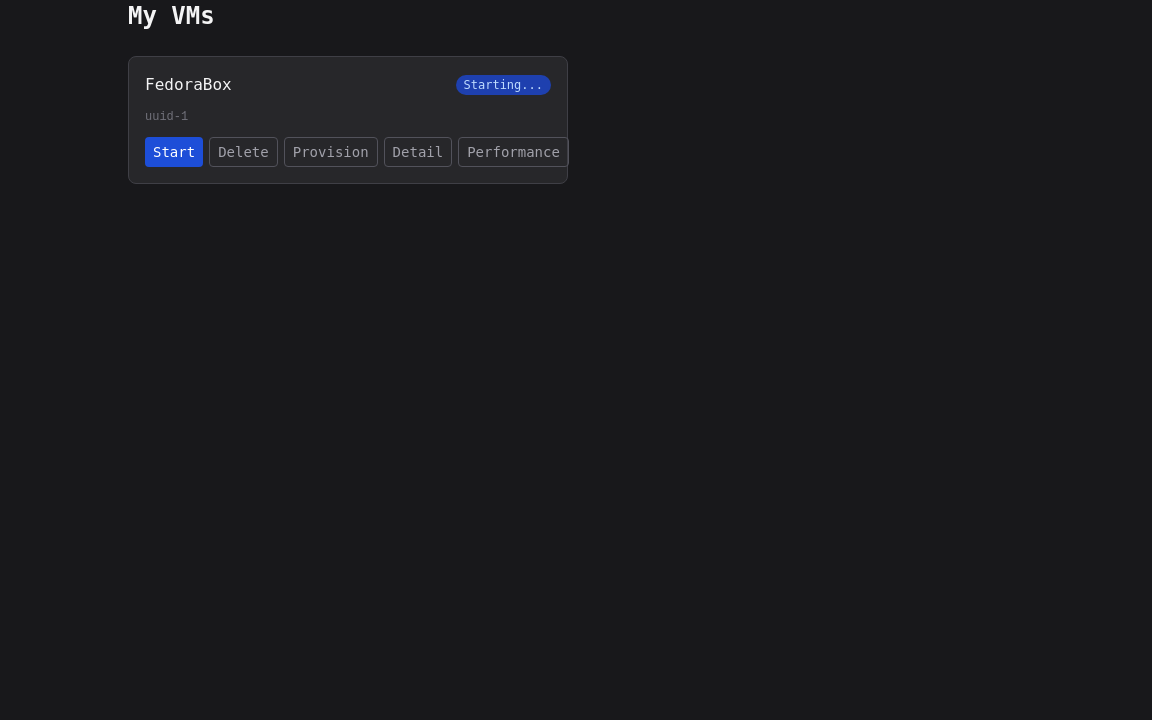
it: delete confirmation › closes the modal and keeps the Delete button when Cancel is clicked
Step 1. Click the button "Delete" → coordinates (244, 152), box [209,137,278,167]
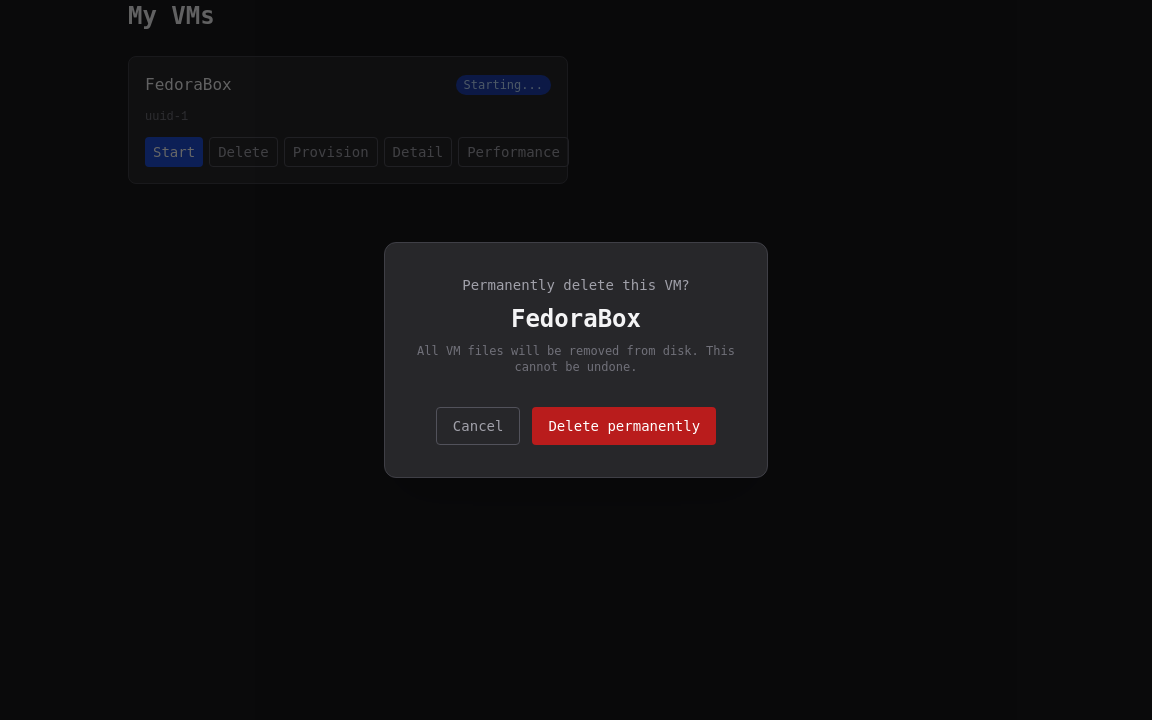
Step 2. Click the button "Cancel" → coordinates (478, 426), box [436,407,520,445]
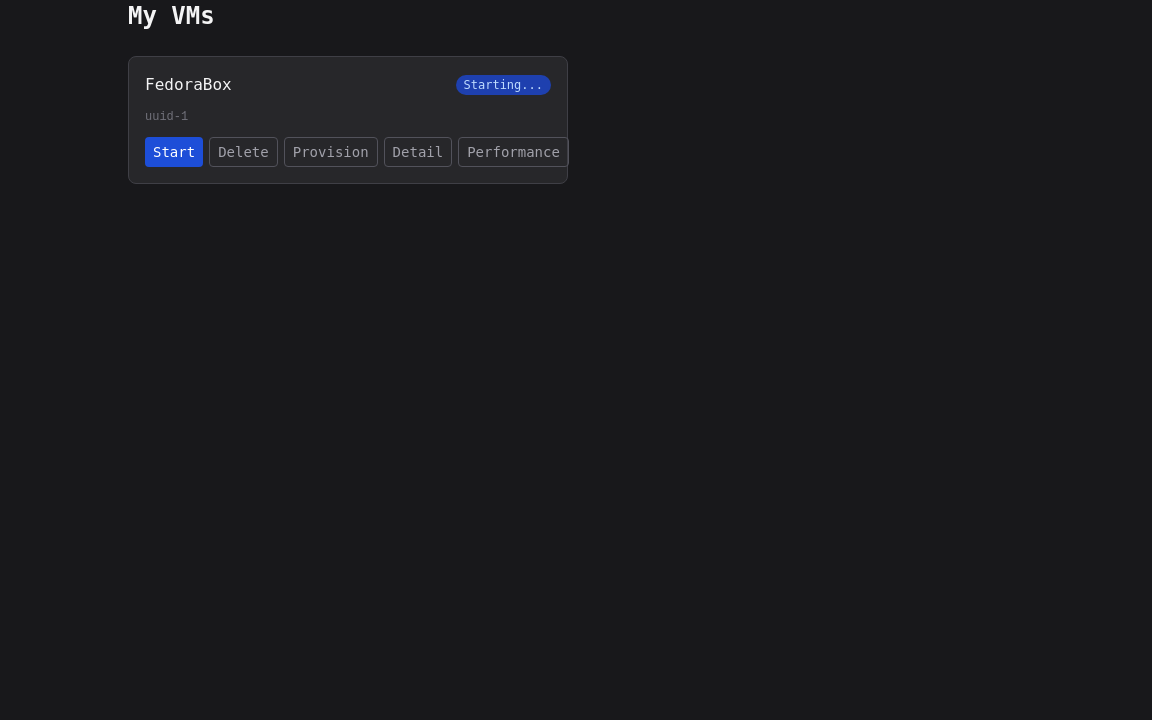
Expected: the button "Delete" is shown, [209,137,278,167]
Expected: the button "Delete permanently" is gone
